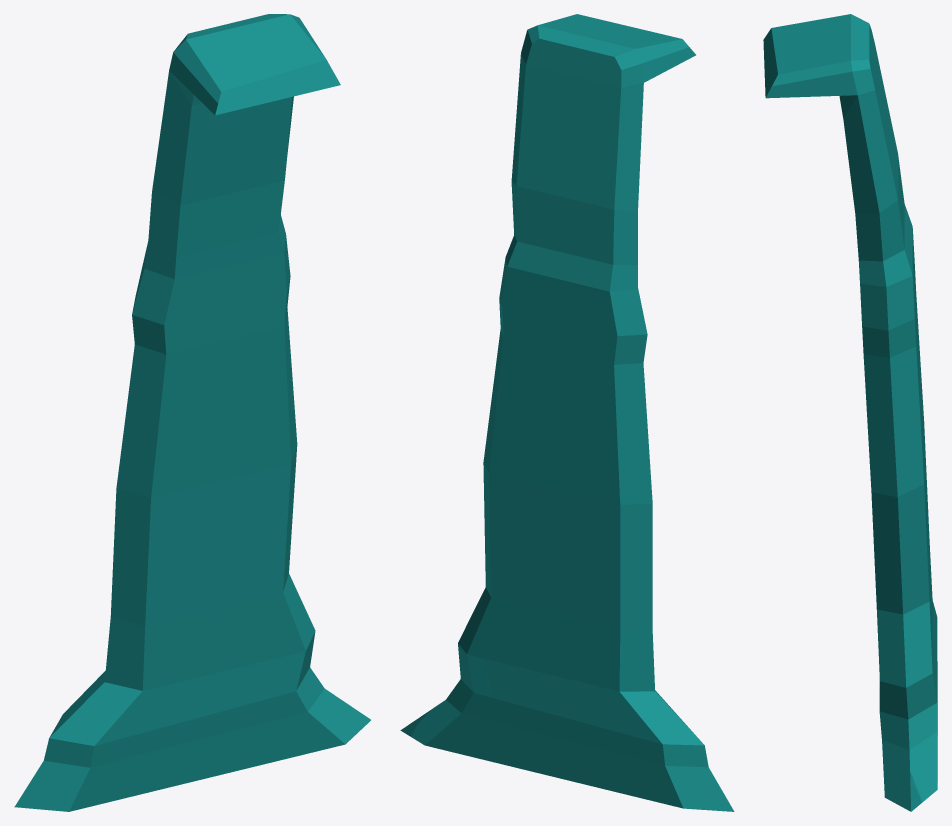
Rendered from CascadaAnimada_000002.obj.
3 renders of one model, left to right at view 1: azimuth 30°, elevation 25°; view 2: azimuth 150°, elevation 25°; view 3: azimuth 270°, elevation 25°, orthographic. The views are drawn at different scales.
Parts seen in each view (by area): view 1: Cube.053, Cube.054; view 2: Cube.053, Cube.054; view 3: Cube.053, Cube.054.
Boxes of the visible parts, x1=… form: Cube.053: x1=14, y1=14, x2=370, y2=811; Cube.054: x1=169, y1=14, x2=340, y2=115; Cube.053: x1=400, y1=25, x2=734, y2=811; Cube.054: x1=538, y1=14, x2=695, y2=82; Cube.053: x1=839, y1=14, x2=937, y2=811; Cube.054: x1=763, y1=14, x2=857, y2=98.
Bounding box in the file's own units: 136 × 277 × 62.23.
